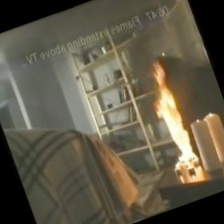fire: (127, 46, 223, 185)
